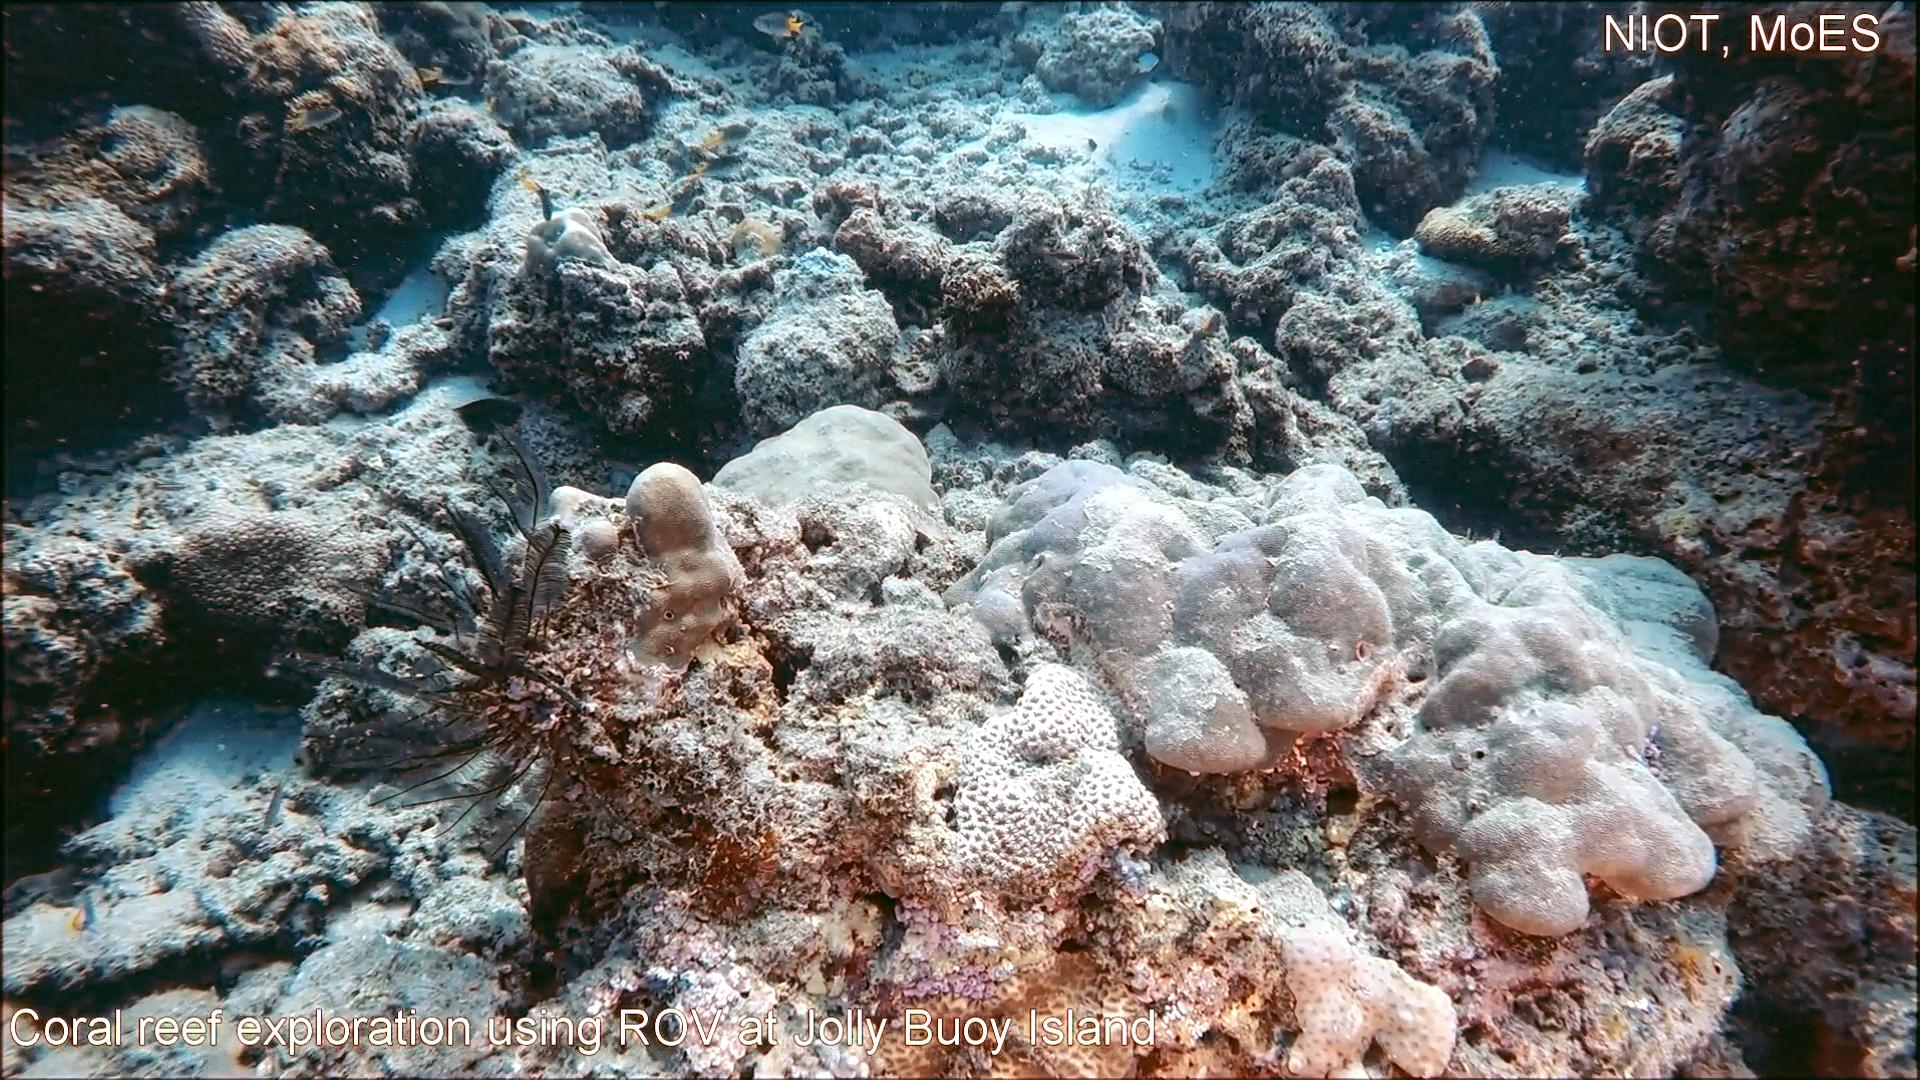Feather star-Crinoid star: (294, 418, 628, 882)
Goniastrea-Goniastrea pectinata: (940, 653, 1172, 920)
Porites-Porites pukoensis: (1266, 455, 1838, 943)
Turbinaria-Turbinaria stellulata: (132, 505, 396, 659)
